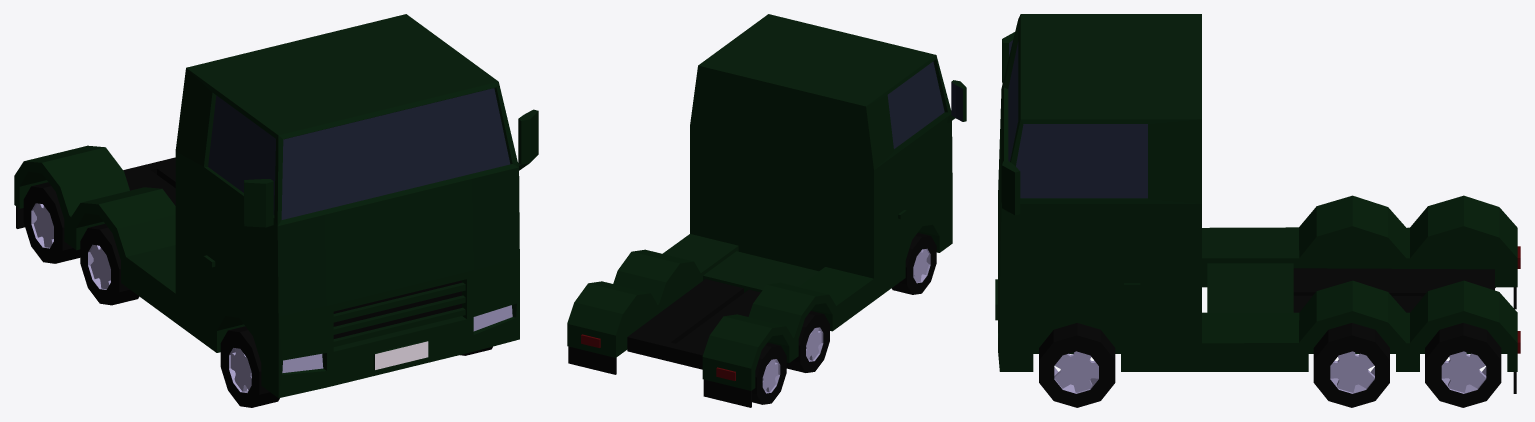
The model's file is truck.glb.
3 views of the same model, side by side, from view 1: azimuth 30°, elevation 25°; view 2: azimuth 150°, elevation 25°; view 3: azimuth 270°, elevation 25° (orthographic). The views are drawn at different scales.
Visible parts, largest first — view 1: Truck, Truck_wheel_front_right, Truck_wheel_rear_right_2, Truck_wheel_rear_right; view 2: Truck, Truck_wheel_rear_right, Truck_wheel_front_right, Truck_wheel_rear_right_2; view 3: Truck, Truck_wheel_front_left, Truck_wheel_rear_left_2, Truck_wheel_rear_left.
Part boxes in pixels (bbox=[...]): Truck: bbox=[14, 14, 538, 398]; Truck_wheel_front_right: bbox=[220, 326, 279, 407]; Truck_wheel_rear_right_2: bbox=[23, 182, 80, 263]; Truck_wheel_rear_right: bbox=[80, 224, 139, 305]; Truck: bbox=[567, 14, 966, 407]; Truck_wheel_rear_right: bbox=[786, 311, 829, 372]; Truck_wheel_front_right: bbox=[891, 233, 936, 294]; Truck_wheel_rear_right_2: bbox=[752, 342, 786, 404]; Truck: bbox=[995, 14, 1520, 393]; Truck_wheel_front_left: bbox=[1039, 323, 1115, 407]; Truck_wheel_rear_left_2: bbox=[1425, 323, 1501, 407]; Truck_wheel_rear_left: bbox=[1313, 323, 1389, 407].
Bounding box in the file's own units: 341 × 321 × 538.
